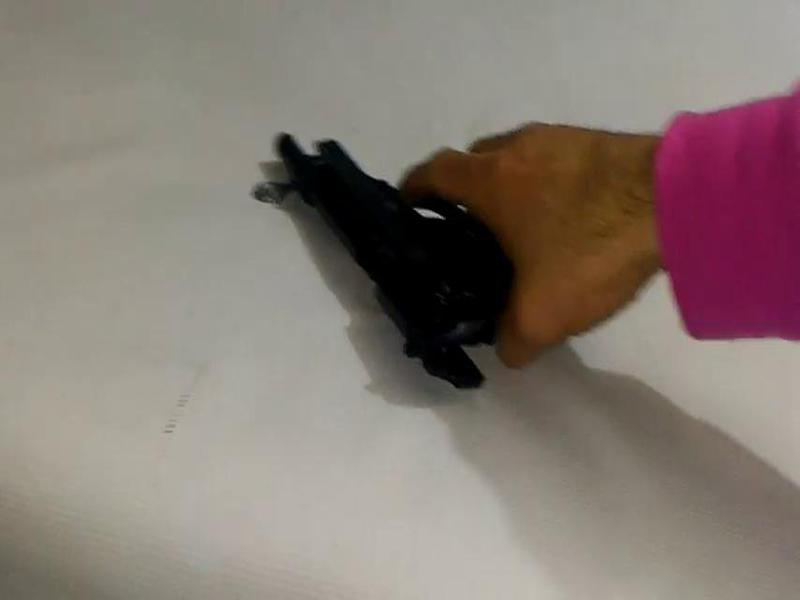Pistola: (262, 114, 637, 417)
